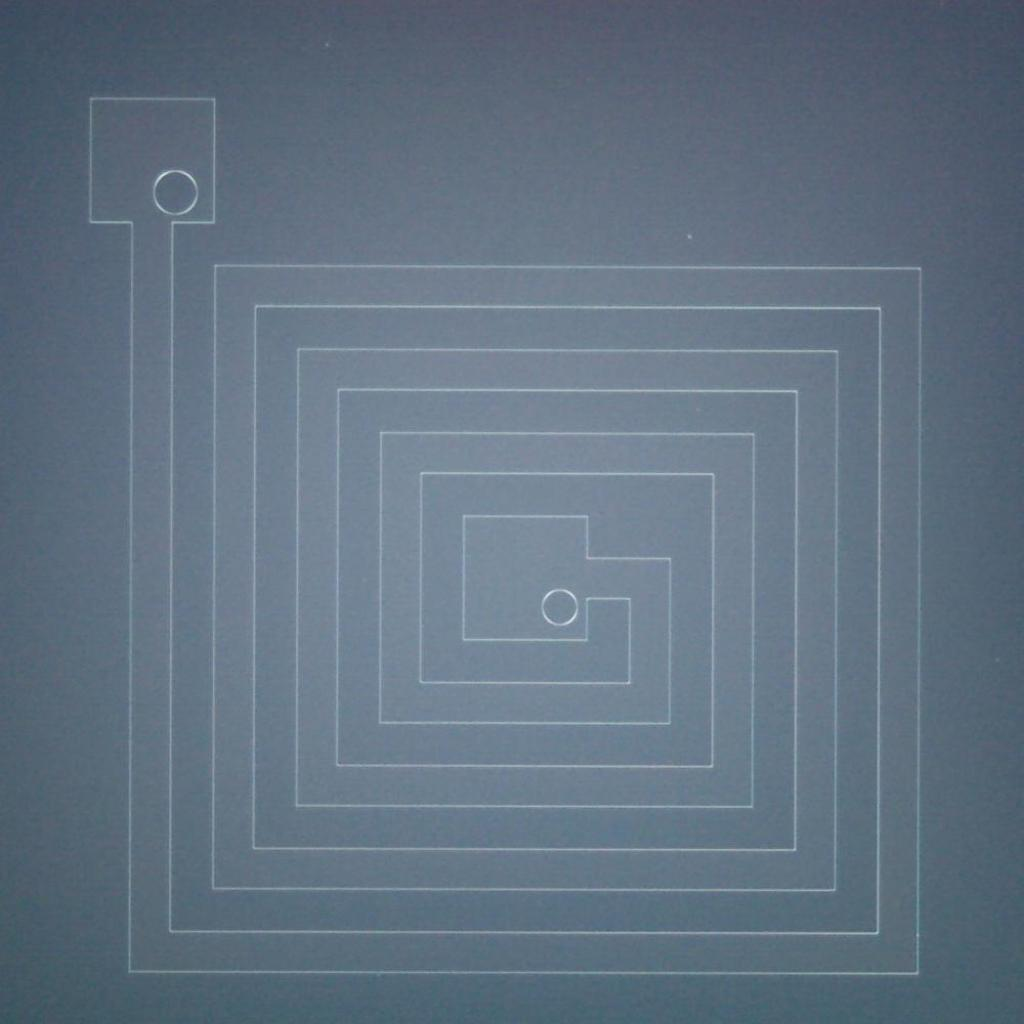dot: (687, 234, 691, 238)
